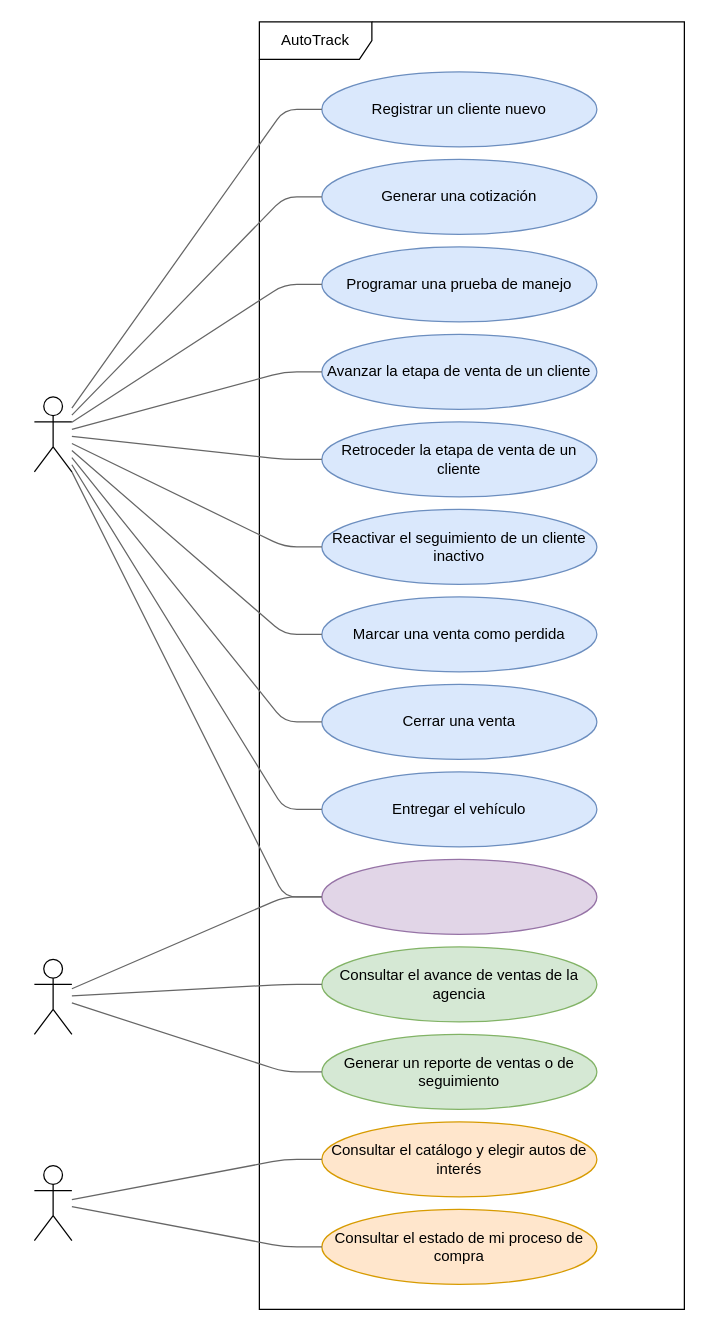
Some shapes in this 706 by 1331 pixel diagram are drawn without their labels. Each missing label, with the box of its shape:
Cliente: (33, 1164, 72, 1241)
Consultar las ventas concretadas: (321, 858, 597, 934)
Gerente: (33, 958, 72, 1034)
Vendedor: (33, 396, 72, 472)
